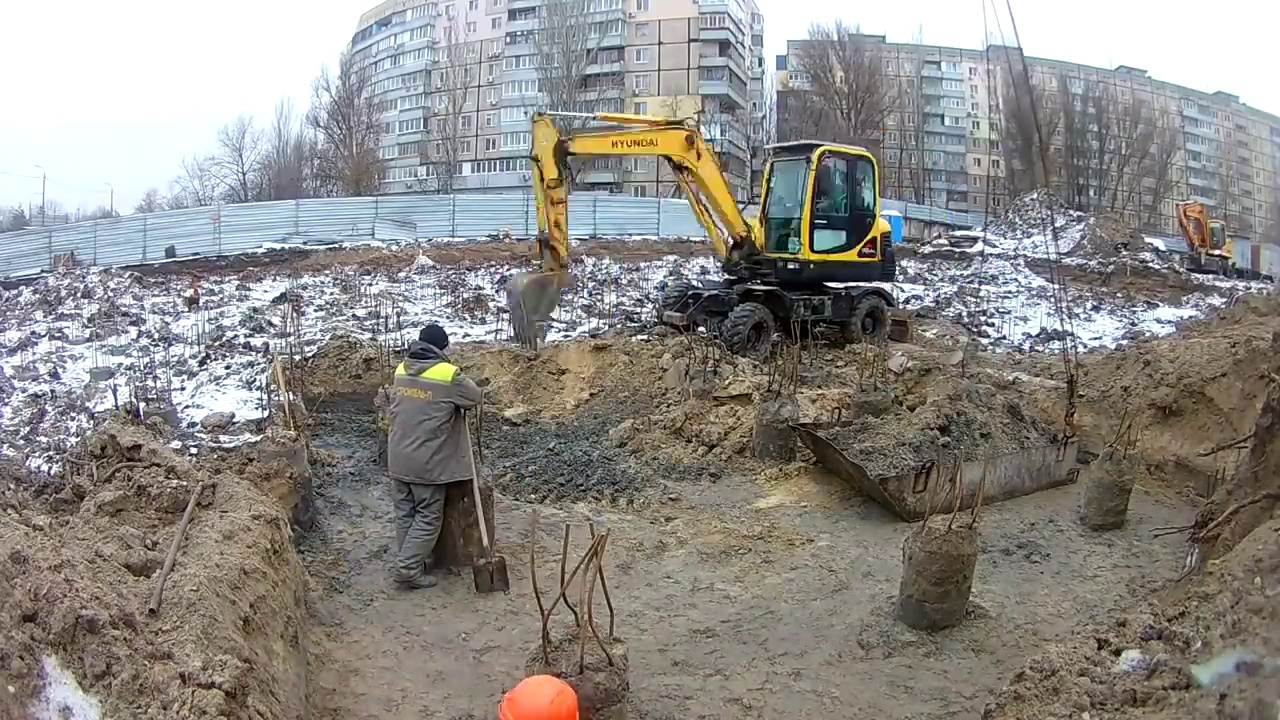helmet: (495, 672, 580, 720)
helmet-off: (410, 325, 448, 357)
person: (381, 323, 481, 588)
